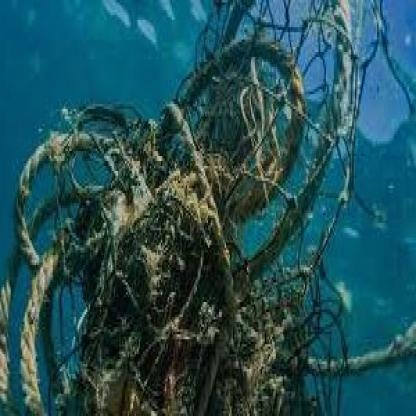net: (4, 5, 350, 416)
